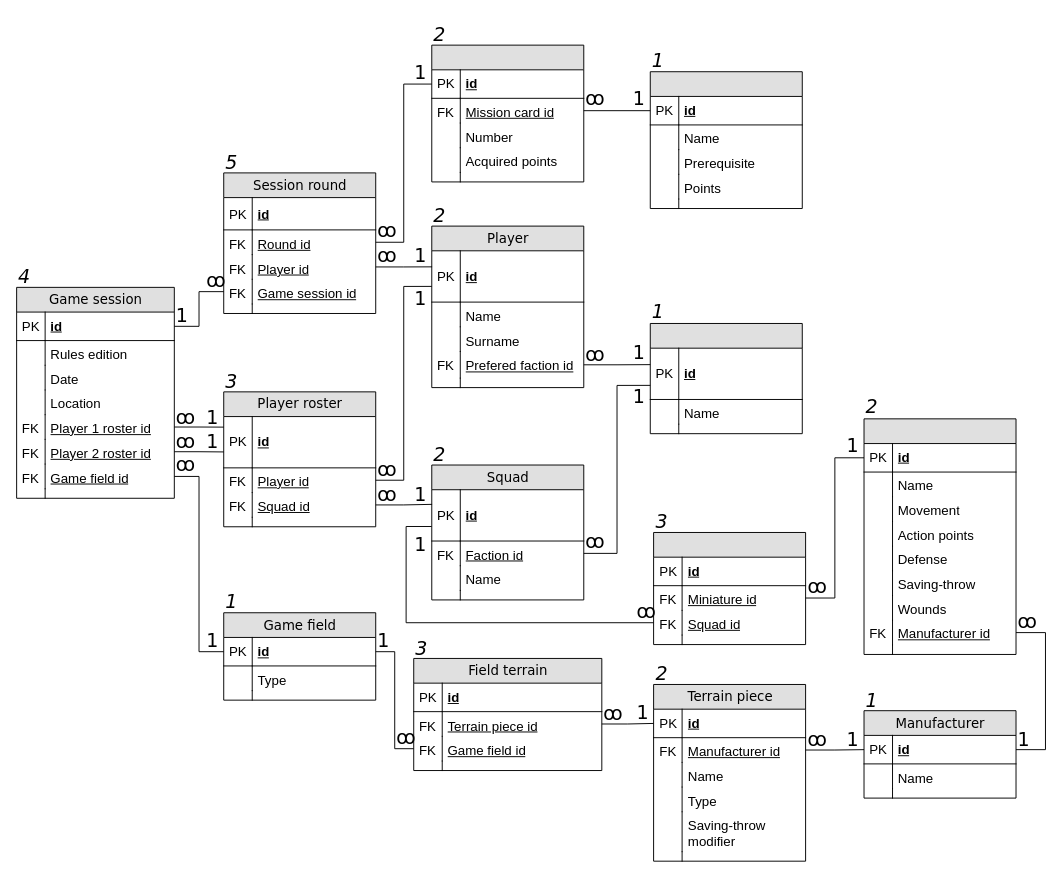
This 1063x878 diagram has some shape labels left out. Here are the shapes that lost their labels. From the top down, the box of each, then its label:
(431, 44, 584, 182): Round
(649, 71, 802, 209): Mission card
(649, 323, 802, 434): Faction
(863, 418, 1016, 654): Miniature
(653, 532, 806, 645): Miniature in squad
